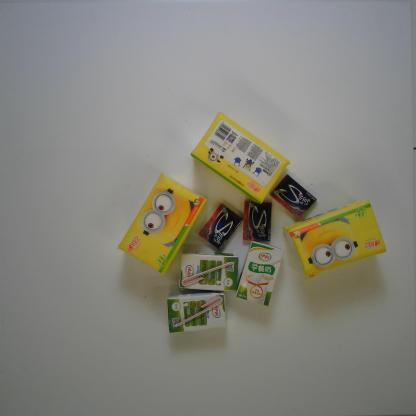Gum: (269, 173, 317, 220), (199, 203, 243, 251), (242, 199, 273, 242)
Milk: (235, 240, 284, 307), (166, 290, 227, 334), (179, 251, 239, 292)
Tissue: (116, 172, 208, 276), (190, 110, 291, 204), (282, 200, 388, 282)
